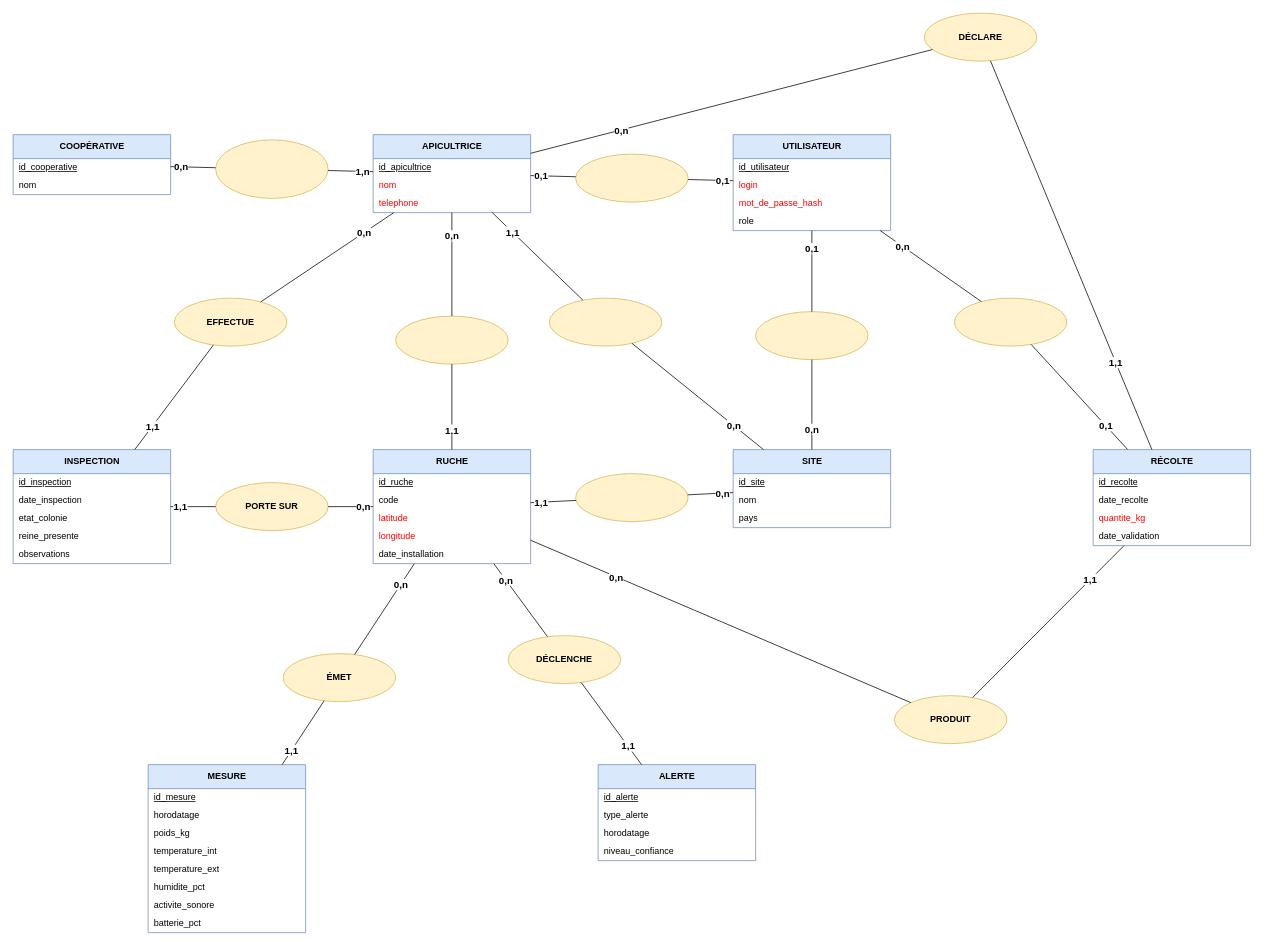
This 1264x946 diagram has some shape labels left out. The shapes that lost their labels are listed below. From the top down, each one's centre as x and y in pixels, then its label:
(271,168): ADHÈRE date_adhesion
(631,177): A POUR COMPTE
(451,339): POSSÈDE
(605,321): EST RATTACHÉE À
(811,335): COORDONNE
(1010,321): VALIDE
(631,497): SE TROUVE SUR
